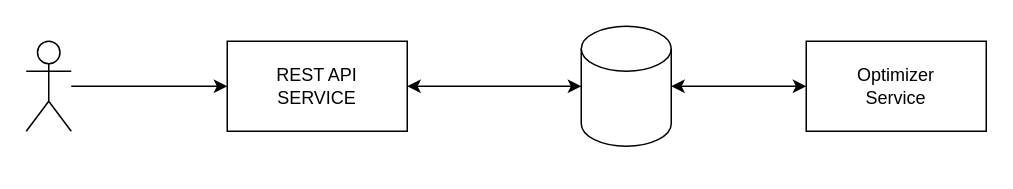
This 1013x189 diagram has some shape labels left out. Here are the shapes that lost their labels. From the top down, the box of each, then its label:
(25, 40, 71, 131): Actor
(580, 25, 671, 146): Postgres
